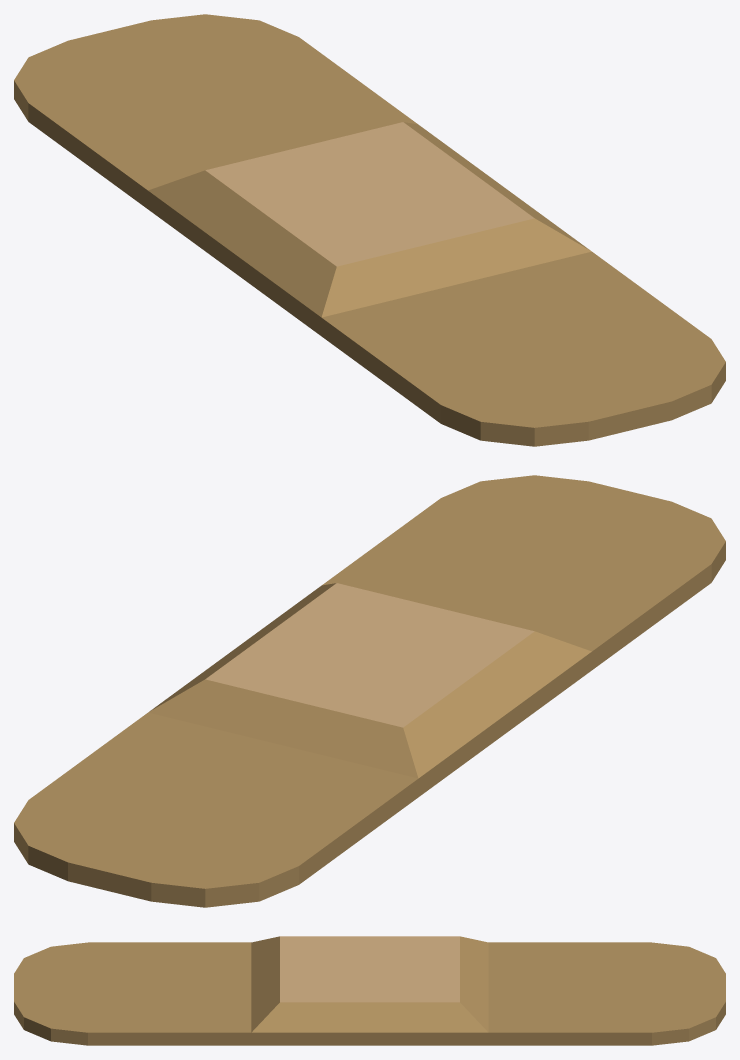
File: Env_Plaster_01a.fbx
3 views of the same model, one above another, from view 1: azimuth 30°, elevation 25°; view 2: azimuth 150°, elevation 25°; view 3: azimuth 270°, elevation 25° (orthographic). The views are drawn at different scales.
Visible parts, largest first — view 1: Plaster; view 2: Plaster; view 3: Plaster.
Part boxes in pixels (x1,y1,x2,y2): Plaster: [14, 14, 725, 446]; Plaster: [14, 475, 725, 907]; Plaster: [14, 936, 725, 1045].
Bounding box in the file's own units: 30 × 4.83 × 100.
